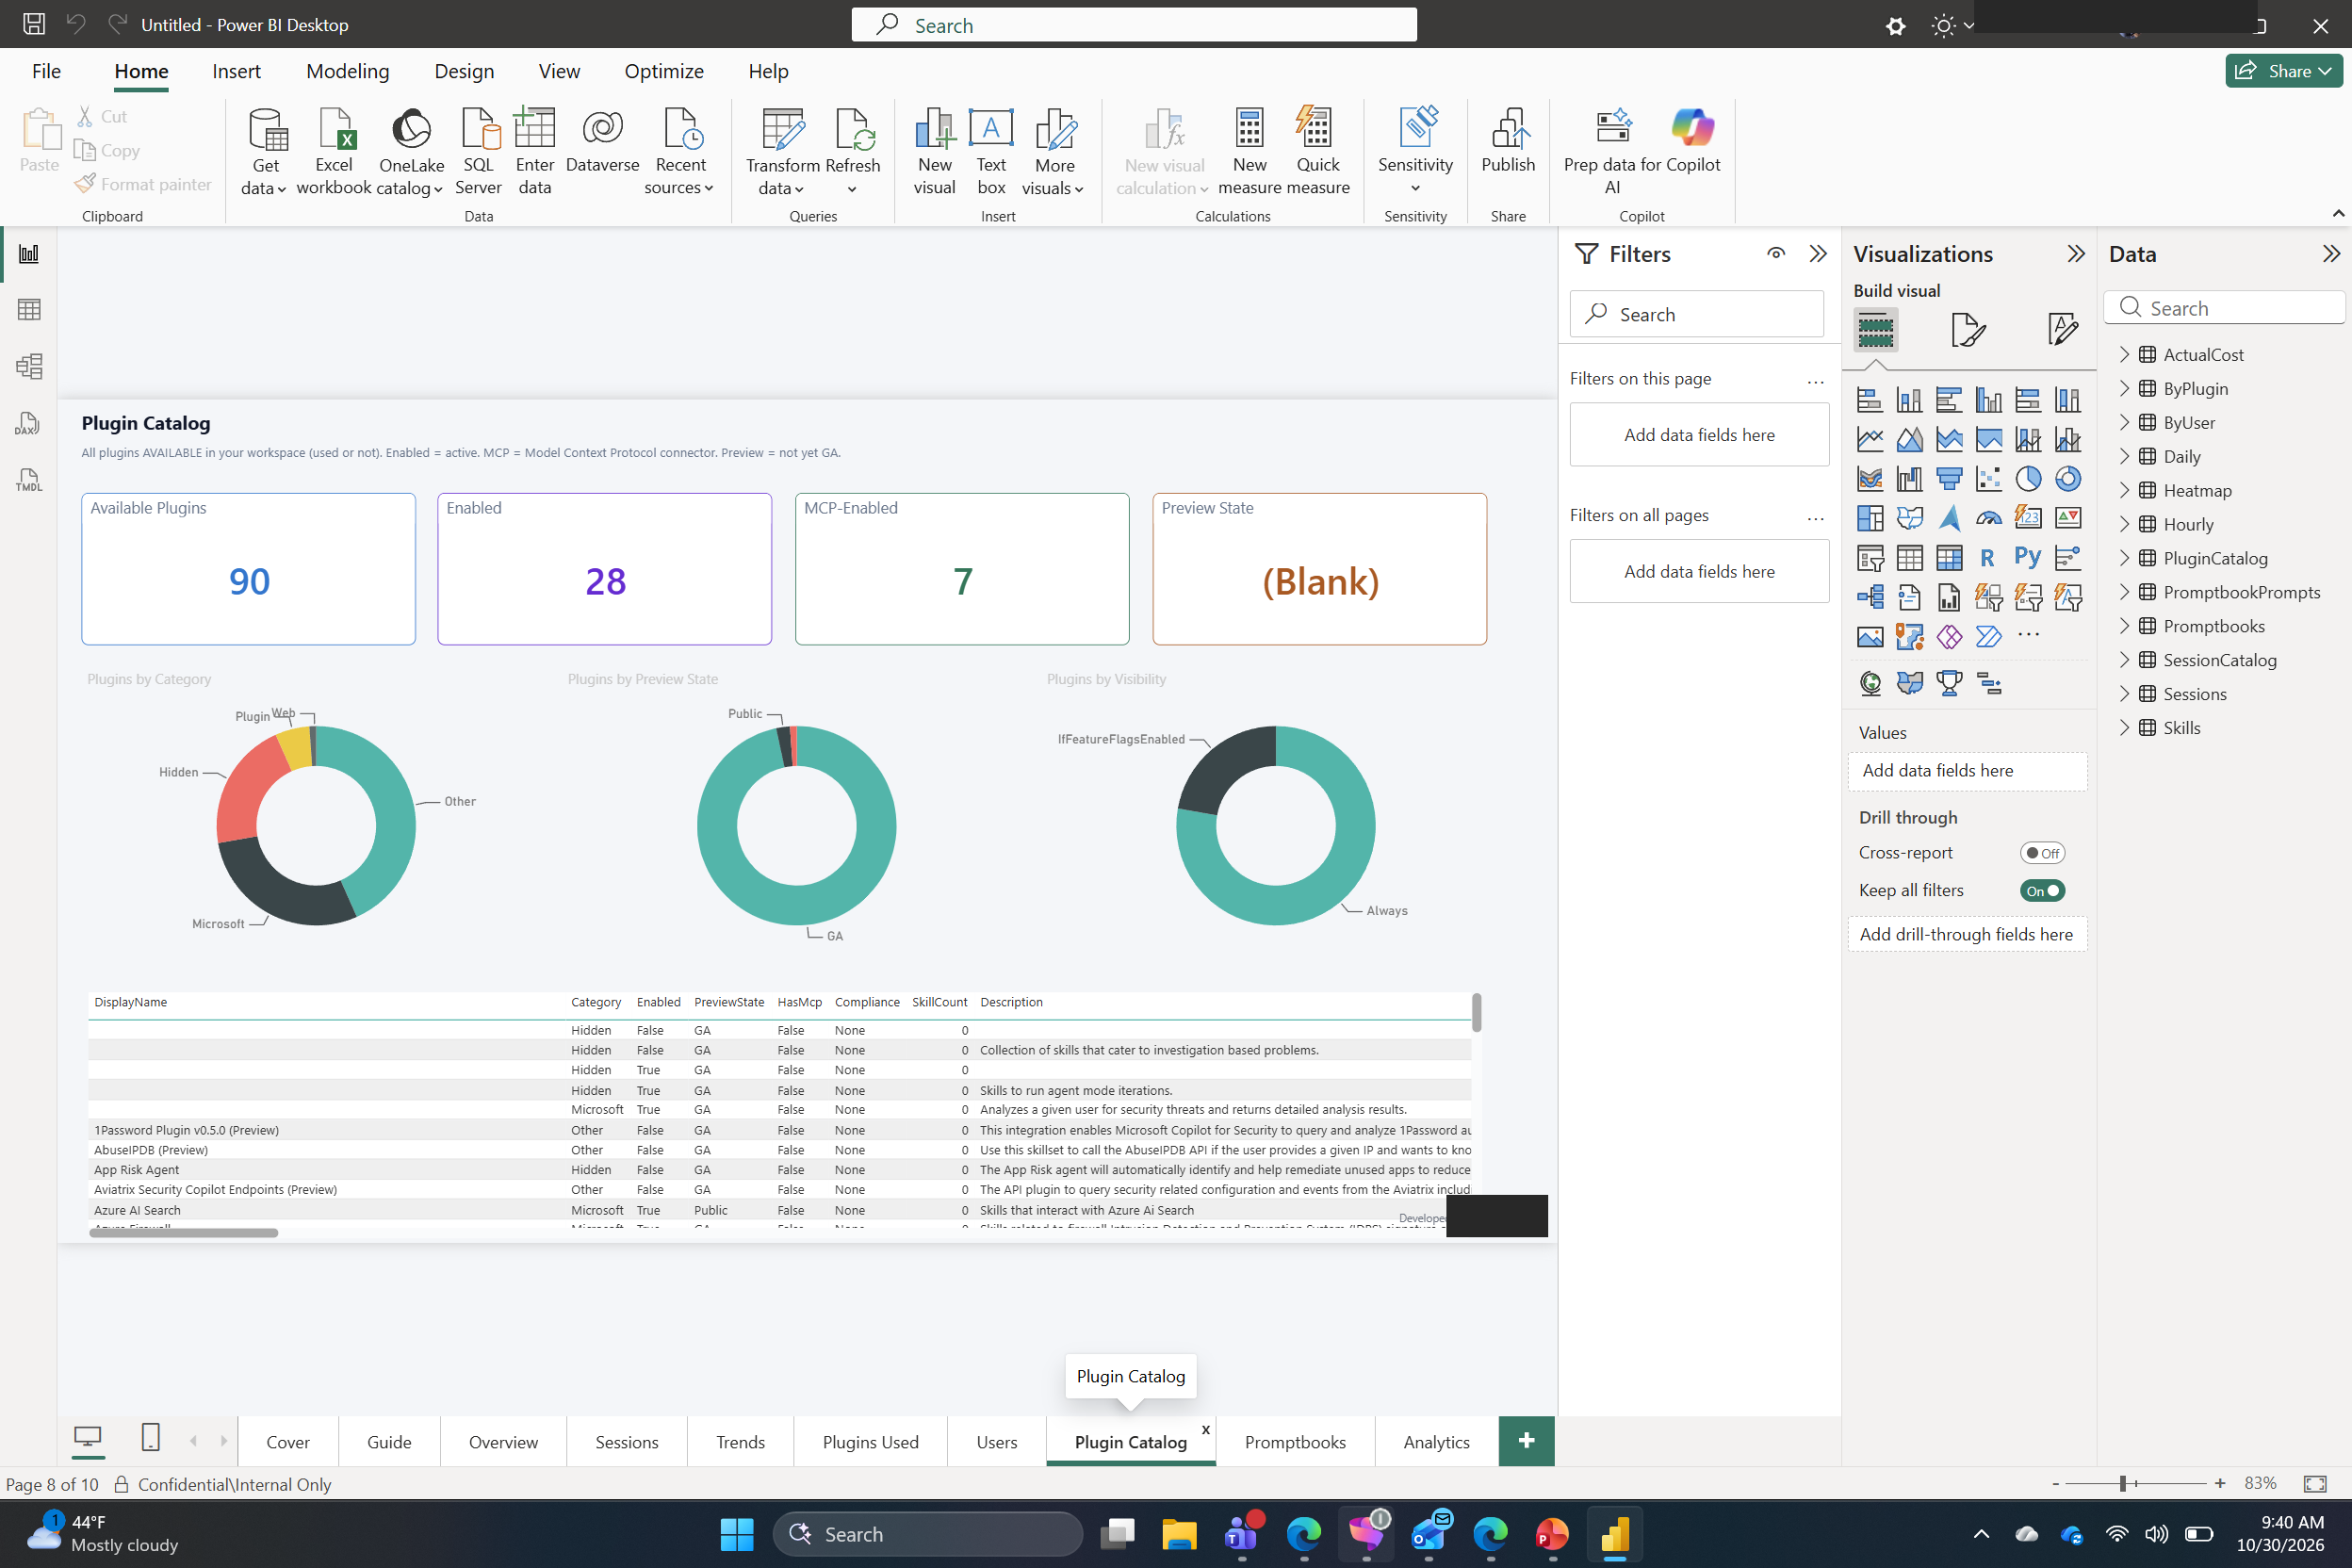

What the dashboard file says about the page in this screenshot:
{"tool":"powerbi","page":{"name":"Plugin Catalog","canvas":[1280,720],"ordinal":7},"visuals":[{"type":"textbox","box":[20,8,1240,32],"z":0},{"type":"textbox","box":[20,34,1240,24],"z":0},{"type":"card","title":"Available Plugins","fields":{"Values":["PluginCatalog.Available Plugins"]},"box":[20,80,285,130],"z":0},{"type":"card","title":"Enabled","fields":{"Values":["PluginCatalog.Enabled Plugins"]},"box":[325,80,285,130],"z":0},{"type":"card","title":"MCP-Enabled","fields":{"Values":["PluginCatalog.MCP Plugins"]},"box":[630,80,285,130],"z":0},{"type":"card","title":"Preview State","fields":{"Values":["PluginCatalog.Preview Plugins"]},"box":[935,80,285,130],"z":0},{"type":"donutChart","title":"Plugins by Category","fields":{"Category":["PluginCatalog.Category"],"Y":["PluginCatalog.Available Plugins"]},"box":[20,230,400,250],"z":0},{"type":"donutChart","title":"Plugins by Preview State","fields":{"Category":["PluginCatalog.PreviewState"],"Y":["PluginCatalog.Available Plugins"]},"box":[430,230,400,250],"z":0},{"type":"donutChart","title":"Plugins by Visibility","fields":{"Category":["PluginCatalog.UserVisibility"],"Y":["PluginCatalog.Available Plugins"]},"box":[840,230,400,250],"z":0},{"type":"tableEx","title":"All Available Plugins","fields":{"Values":["PluginCatalog.DisplayName","PluginCatalog.Category","PluginCatalog.Enabled","PluginCatalog.PreviewState","PluginCatalog.HasMcp","PluginCatalog.Compliance","PluginCatalog.SkillCount","PluginCatalog.Description"]},"box":[20,500,1200,220],"z":0},{"type":"textbox","box":[1060,686,200,22],"z":0}]}

Visuals, with their boxes on the page's 1280x720 design canvas (x1, y1, x2, y2). These are canvas units, not pixel positions in the 2352x1568 screenshot, which may show the page scaled, cropped or inside an application window:
textbox: bbox=[20, 8, 1260, 40]
textbox: bbox=[20, 34, 1260, 58]
"Available Plugins" card: bbox=[20, 80, 305, 210]
"Enabled" card: bbox=[325, 80, 610, 210]
"MCP-Enabled" card: bbox=[630, 80, 915, 210]
"Preview State" card: bbox=[935, 80, 1220, 210]
"Plugins by Category" donutChart: bbox=[20, 230, 420, 480]
"Plugins by Preview State" donutChart: bbox=[430, 230, 830, 480]
"Plugins by Visibility" donutChart: bbox=[840, 230, 1240, 480]
"All Available Plugins" tableEx: bbox=[20, 500, 1220, 720]
textbox: bbox=[1060, 686, 1260, 708]
